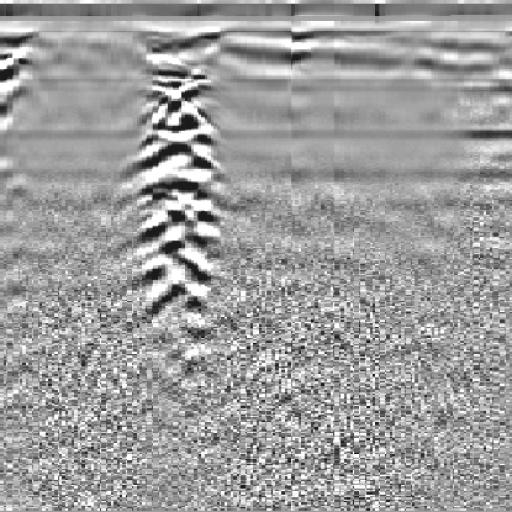metalic: (83, 32, 271, 366)
